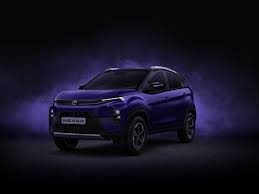Tata Nexon: (48, 66, 197, 156)
